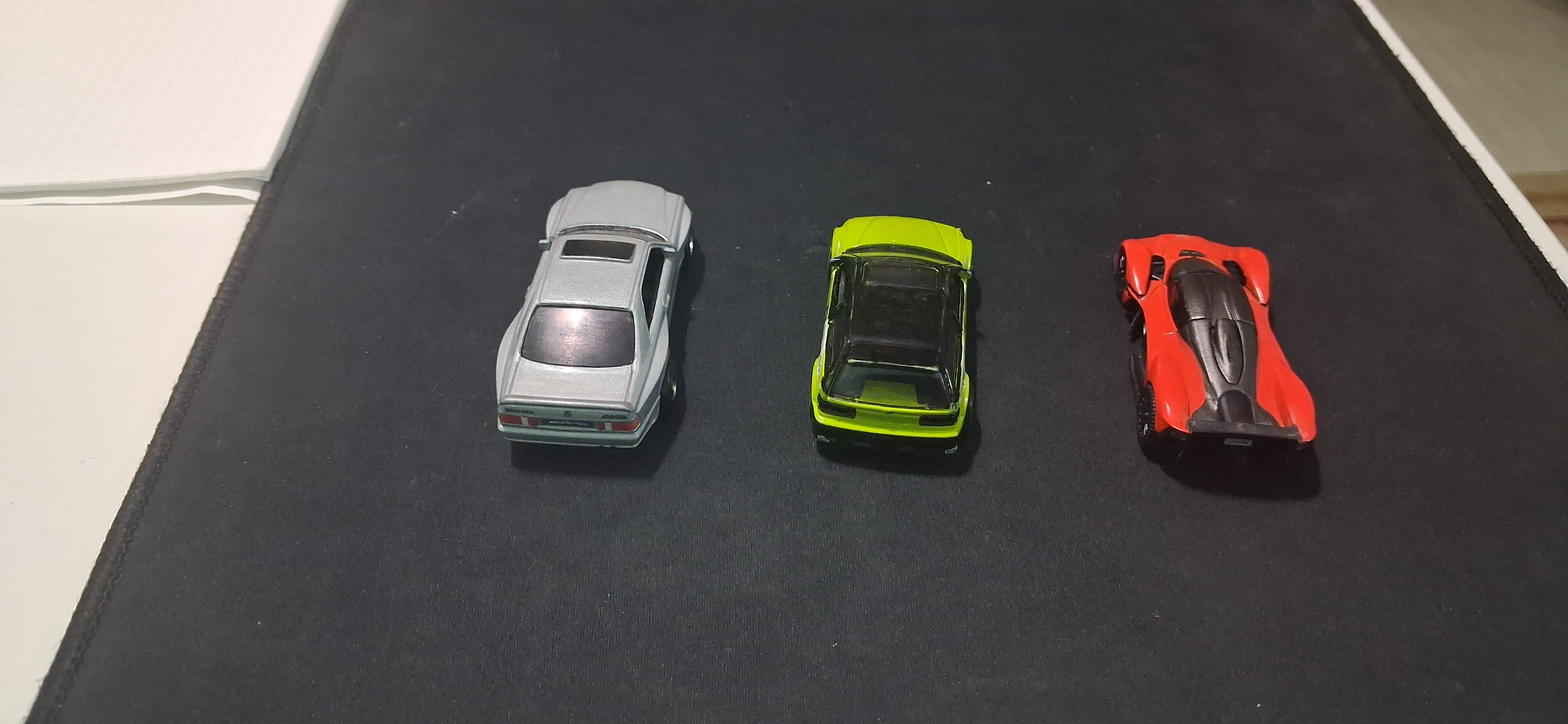Aston_Martin_Valkyrie: (1084, 203, 1341, 498)
Honda_Civic: (793, 184, 1011, 484)
Mercedes_Benz_560_SEC_AMG: (471, 163, 725, 504)
